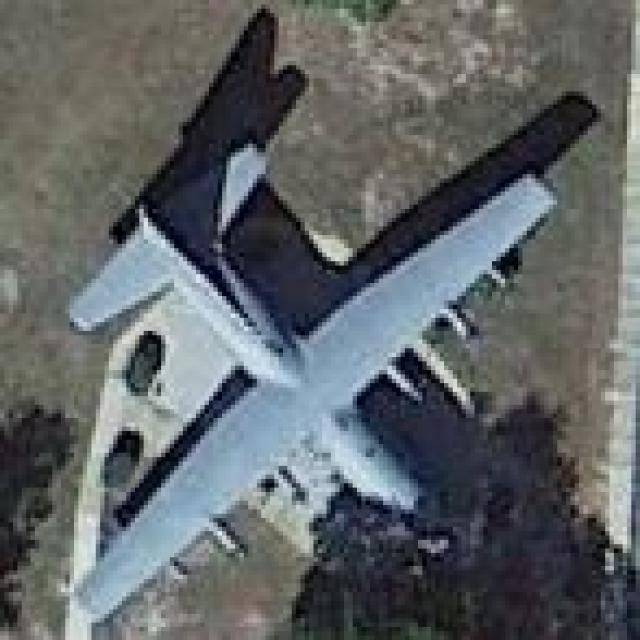C-130_TopDown: (61, 6, 607, 622)
